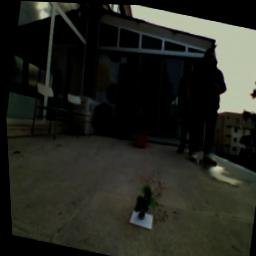herb: (129, 183, 160, 220)
